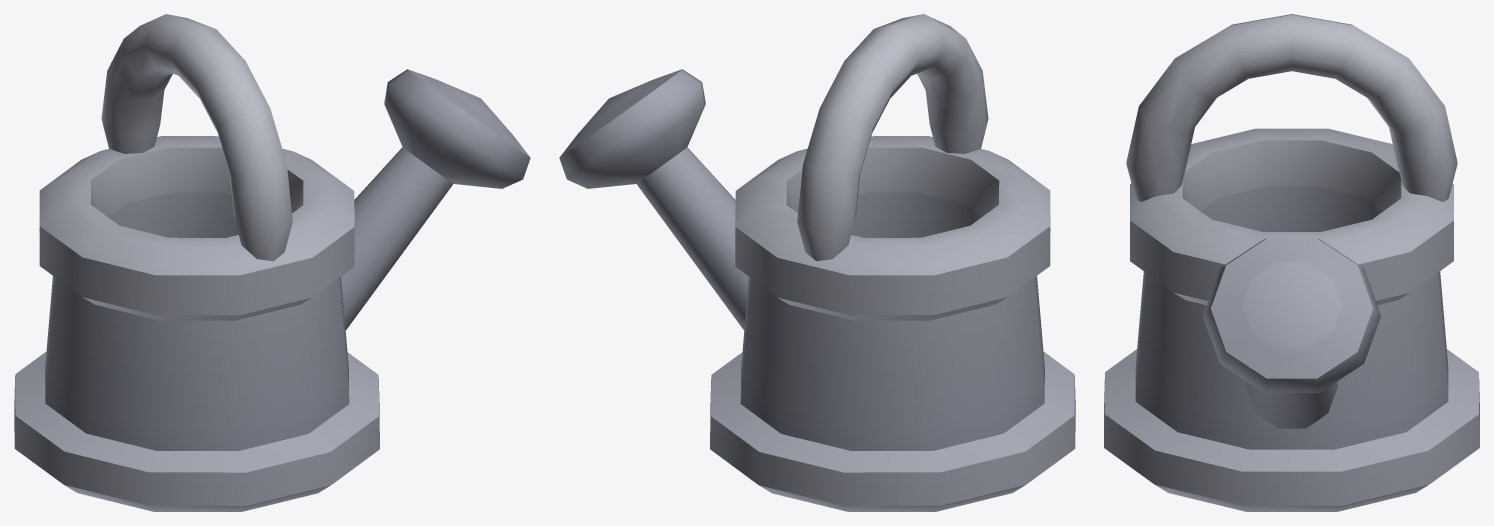
The model's file is watering-can.glb.
3 renders of one model, left to right at view 1: azimuth 30°, elevation 25°; view 2: azimuth 150°, elevation 25°; view 3: azimuth 270°, elevation 25°, orthographic. The views are drawn at different scales.
Parts seen in each view (by area): view 1: watering_can_A; view 2: watering_can_A; view 3: watering_can_A.
Part boxes in pixels (x1,y1,x2,y2): watering_can_A: (14, 14, 530, 511); watering_can_A: (559, 14, 1075, 511); watering_can_A: (1104, 14, 1479, 511).
Size of the model in its own units: 0.9 by 0.75 by 0.6.
Materials: 1 (1 with a texture image).
